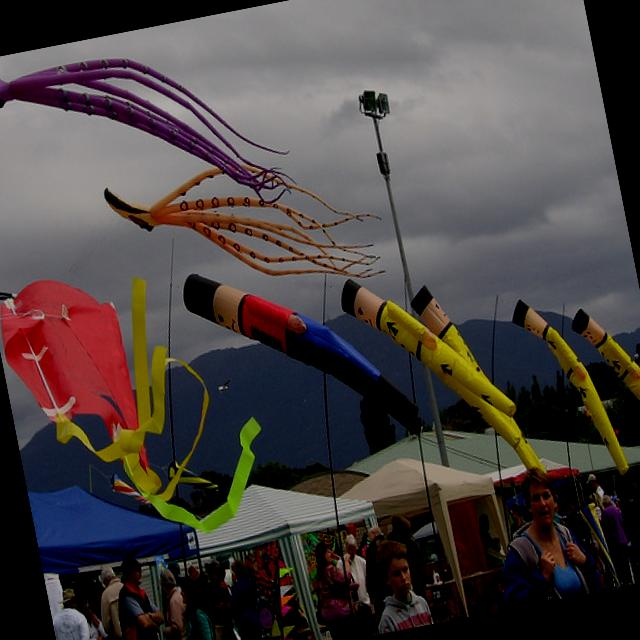Vehicle: (408, 520, 441, 566)
